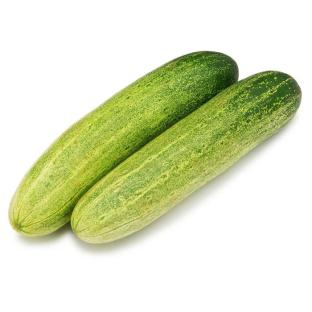Cucumber: (9, 52, 238, 236), (72, 72, 301, 242)
